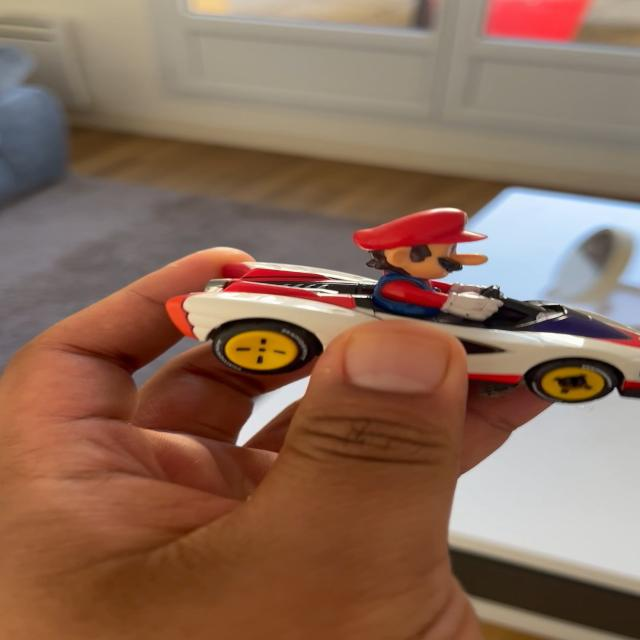mario: (178, 197, 638, 417)
